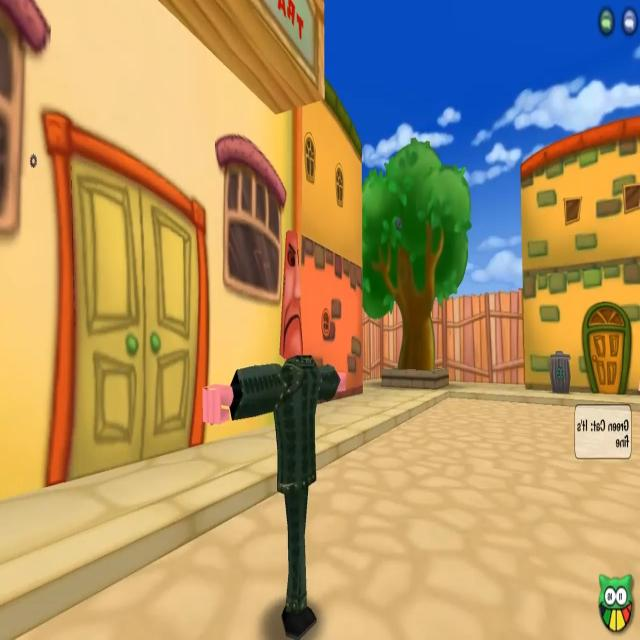pennypincher: (229, 272, 340, 640)
